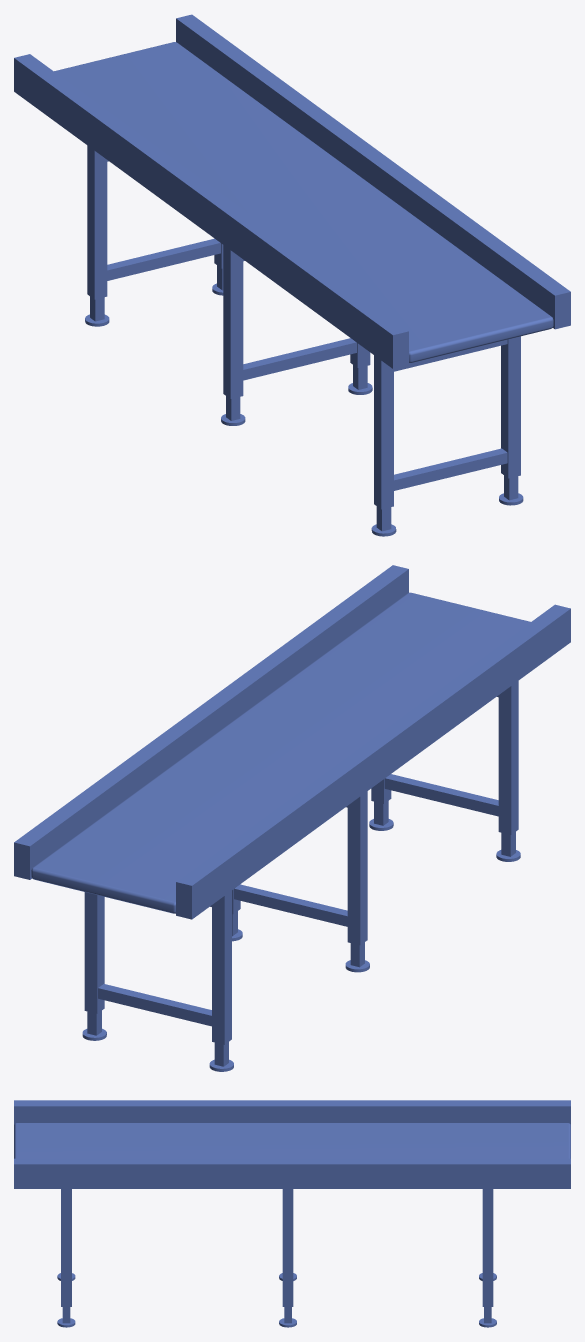
The model's file is Conveyor.fbx.
3 views of the same model, one above another, from view 1: azimuth 30°, elevation 25°; view 2: azimuth 150°, elevation 25°; view 3: azimuth 270°, elevation 25° (orthographic). The views are drawn at different scales.
Parts seen in each view (by area): view 1: polySurface18; view 2: polySurface18; view 3: polySurface18.
Part boxes in pixels (<box>): polySurface18: <box>14,14,570,536</box>; polySurface18: <box>14,565,570,1071</box>; polySurface18: <box>14,1100,570,1327</box>.
Bounding box in the file's own units: 25.77 × 31.64 × 94.99.
